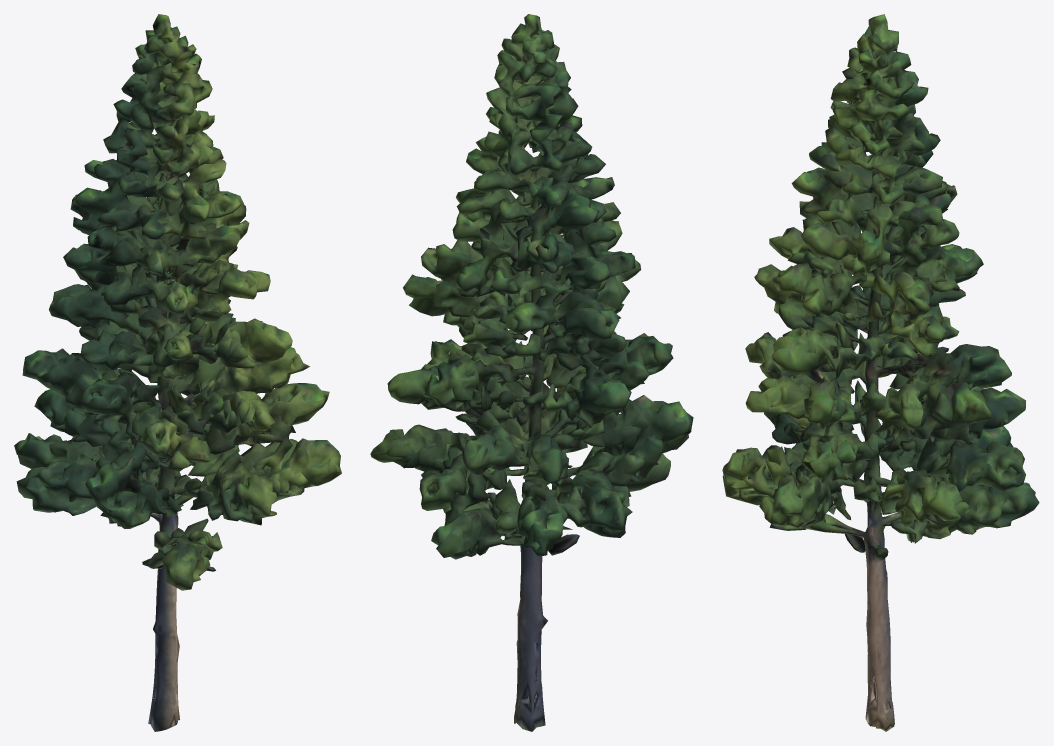
The model's file is AI_YoungSpruceTree.fbx.
3 views of the same model, side by side, from view 1: azimuth 30°, elevation 25°; view 2: azimuth 150°, elevation 25°; view 3: azimuth 270°, elevation 25° (orthographic).
Parts seen in each view (by area): view 1: Mesh_0; view 2: Mesh_0; view 3: Mesh_0.
Part boxes in pixels (left/top/right/bottom): Mesh_0: left=14, top=14, right=341, bottom=731; Mesh_0: left=370, top=14, right=693, bottom=731; Mesh_0: left=722, top=14, right=1039, bottom=731.
Size of the model in its own units: 74.63 by 201 by 81.38.
1 material, 1 textured.
